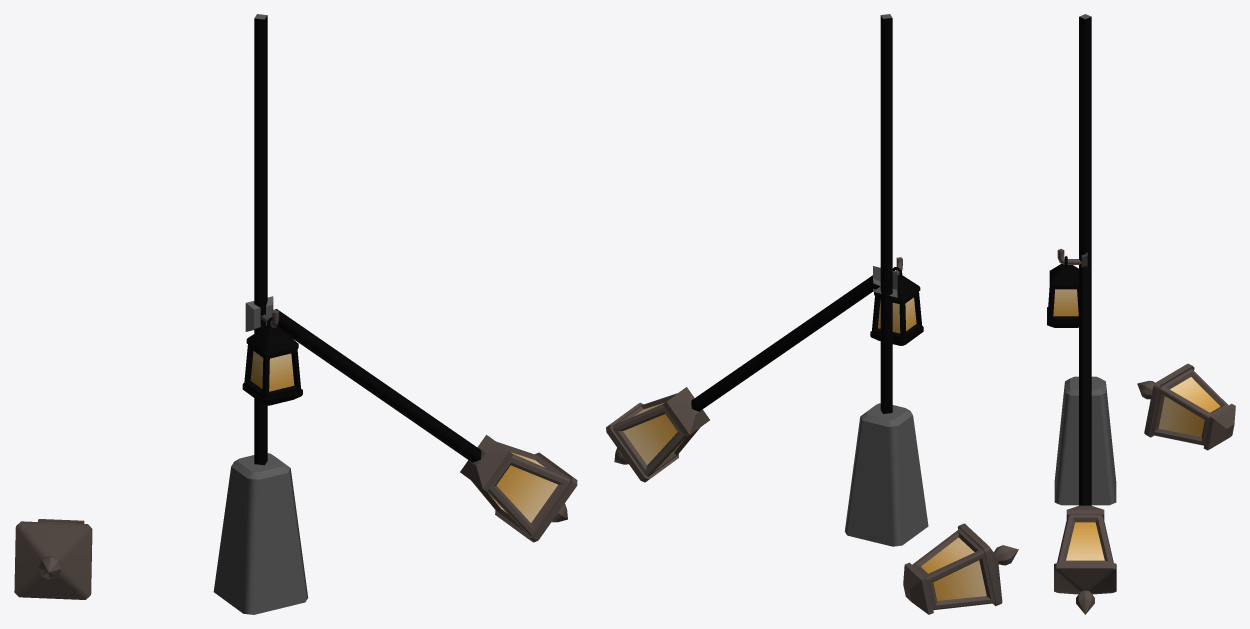
The model's file is LanternsBroken.fbx.
3 views of the same model, side by side, from view 1: azimuth 30°, elevation 25°; view 2: azimuth 150°, elevation 25°; view 3: azimuth 270°, elevation 25° (orthographic). The views are drawn at different scales.
Parts seen in each view (by area): view 1: Lantern_Broken01, Lantern_Broken02, Lantern02; view 2: Lantern_Broken01, Lantern_Broken02, Lantern02; view 3: Lantern_Broken01, Lantern_Broken02, Lantern02.
Boxes of the visible parts, x1,y1,x2,y2 form: Lantern_Broken01: (213,309,577,614); Lantern_Broken02: (14,14,267,599); Lantern02: (242,296,302,405); Lantern_Broken01: (606,275,928,546); Lantern_Broken02: (880,14,1018,614); Lantern02: (870,257,923,345); Lantern_Broken01: (1054,266,1116,614); Lantern_Broken02: (1079,14,1235,450); Lantern02: (1047,249,1087,327).
Bounding box in the file's own units: 278 × 310 × 112.
